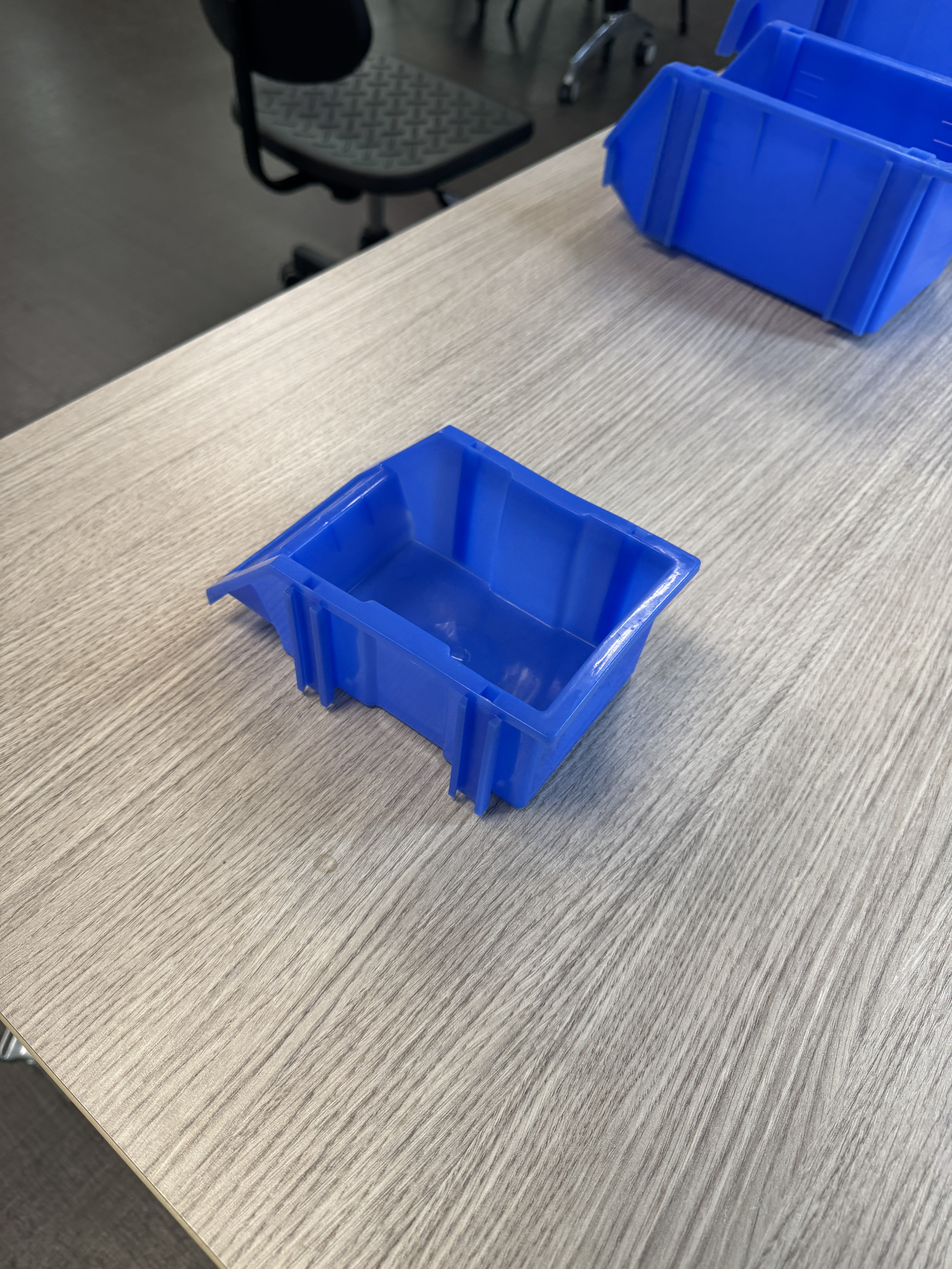Bin Boundary: (289, 385, 673, 728)
